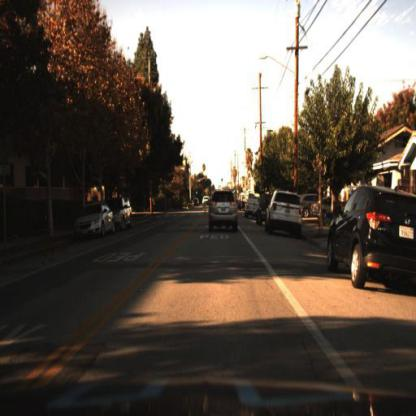car: (326, 183, 414, 292), (267, 190, 305, 242), (73, 201, 117, 242), (206, 187, 240, 238), (104, 193, 135, 234), (311, 193, 346, 223), (257, 190, 273, 234), (243, 193, 261, 223)
